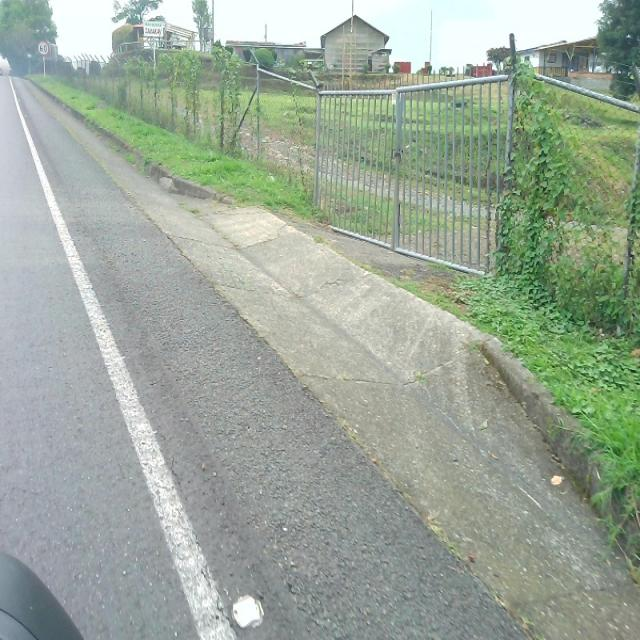DITCH: (3, 41, 638, 637), (5, 72, 638, 639), (51, 68, 638, 636)
